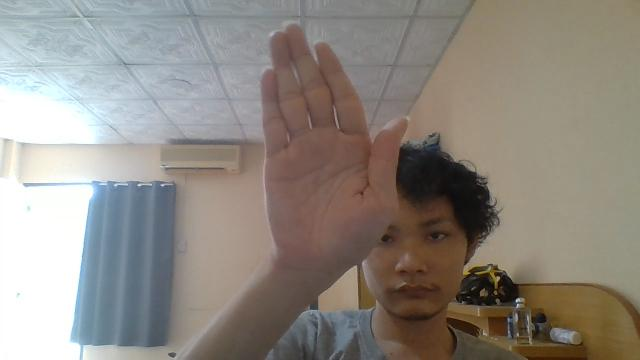Stop: (258, 22, 409, 278)
